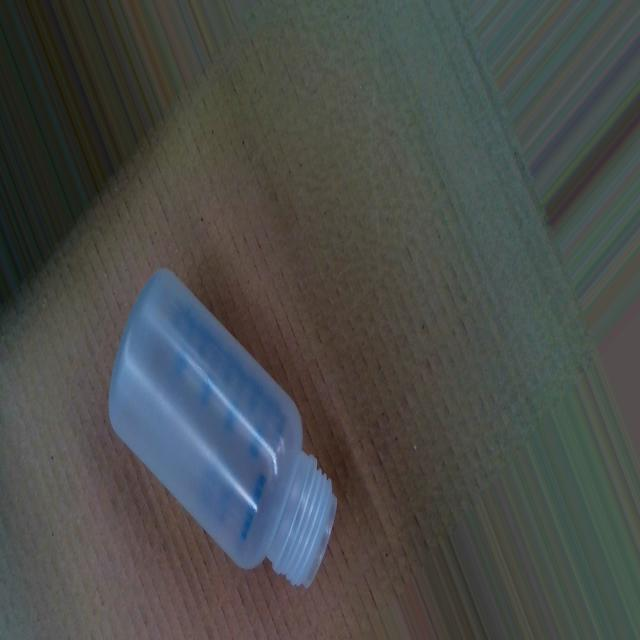bottle: (104, 259, 343, 595)
